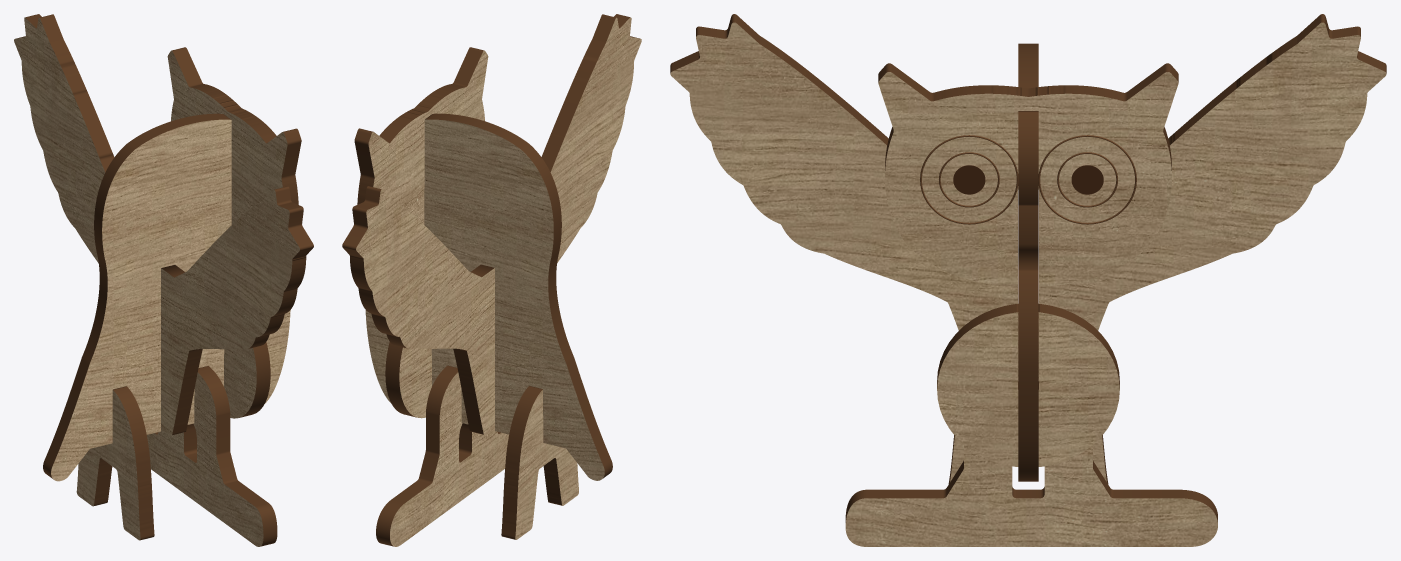
Rendered from pocket-owl.glb.
3 views of the same model, side by side, from view 1: azimuth 30°, elevation 25°; view 2: azimuth 150°, elevation 25°; view 3: azimuth 270°, elevation 25° (orthographic). The views are drawn at different scales.
Parts seen in each view (by area): view 1: body0, body1, body4, body2, body5, body3; view 2: body0, body1, body4, body2, body5, body3; view 3: body1, body2, body4, body3, body0, score2, engrave2.
Boxes of the visible parts, <box> form: body0: <box>43,113,290,481</box>; body1: <box>14,14,313,435</box>; body4: <box>147,366,277,546</box>; body2: <box>167,47,301,224</box>; body5: <box>76,386,154,540</box>; body3: <box>224,342,270,418</box>; body0: <box>365,113,612,480</box>; body1: <box>342,14,641,434</box>; body4: <box>376,365,508,546</box>; body2: <box>354,47,488,224</box>; body5: <box>501,386,578,539</box>; body3: <box>385,342,431,418</box>; body1: <box>670,14,1386,380</box>; body2: <box>878,63,1178,286</box>; body4: <box>845,445,1217,546</box>; body3: <box>937,304,1119,466</box>; body0: <box>1018,43,1038,481</box>; score2: <box>920,135,1136,224</box>; engrave2: <box>953,165,1103,194</box>.
Size of the model in its own units: 0.0516 by 0.0827 by 0.1065.
Materials: 4 (1 with a texture image).
